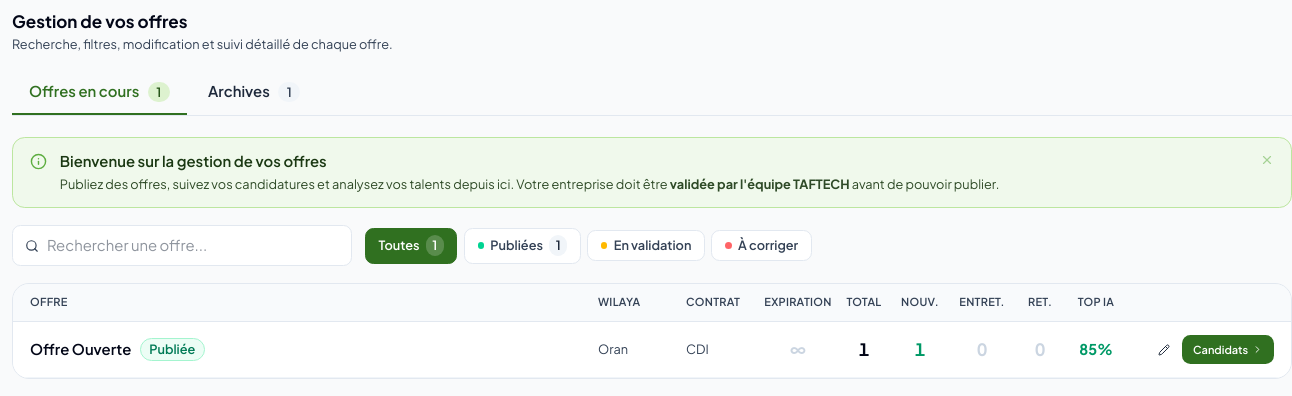
Test case: 📋 UI & Logique - Composant <OffresListPage /> › 🟢 HP1 : Affiche les offres en cours par défaut et bascule sur Archives
This screenshot has width=1292, height=396.
Expected: the text "Offre Ouverte" is shown, top-left (30, 339), bottom-right (131, 360)
Expected: the text "Offre Archives" is not shown
Click the button "Archives1" at (254, 92), box top-left (191, 70), bottom-right (317, 115)
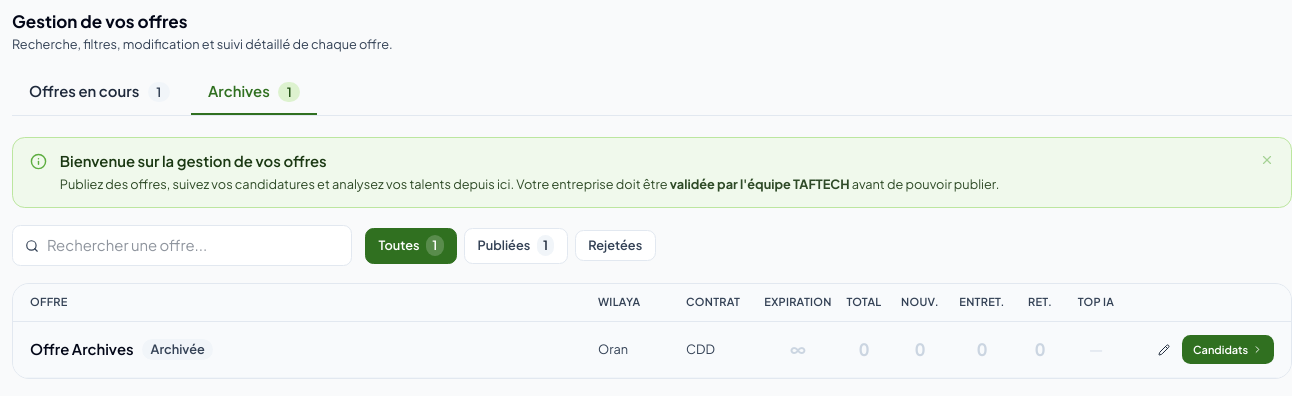
Expected: the text "Offre Archives" is shown, top-left (30, 339), bottom-right (134, 360)
Expected: the text "Offre Ouverte" is gone
